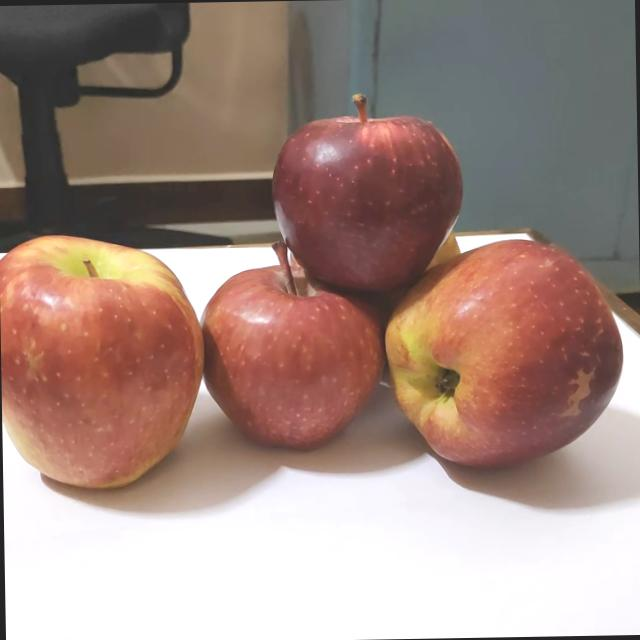apple: (368, 230, 624, 473), (0, 223, 197, 495), (253, 78, 462, 292), (186, 234, 384, 449), (402, 210, 462, 282)
